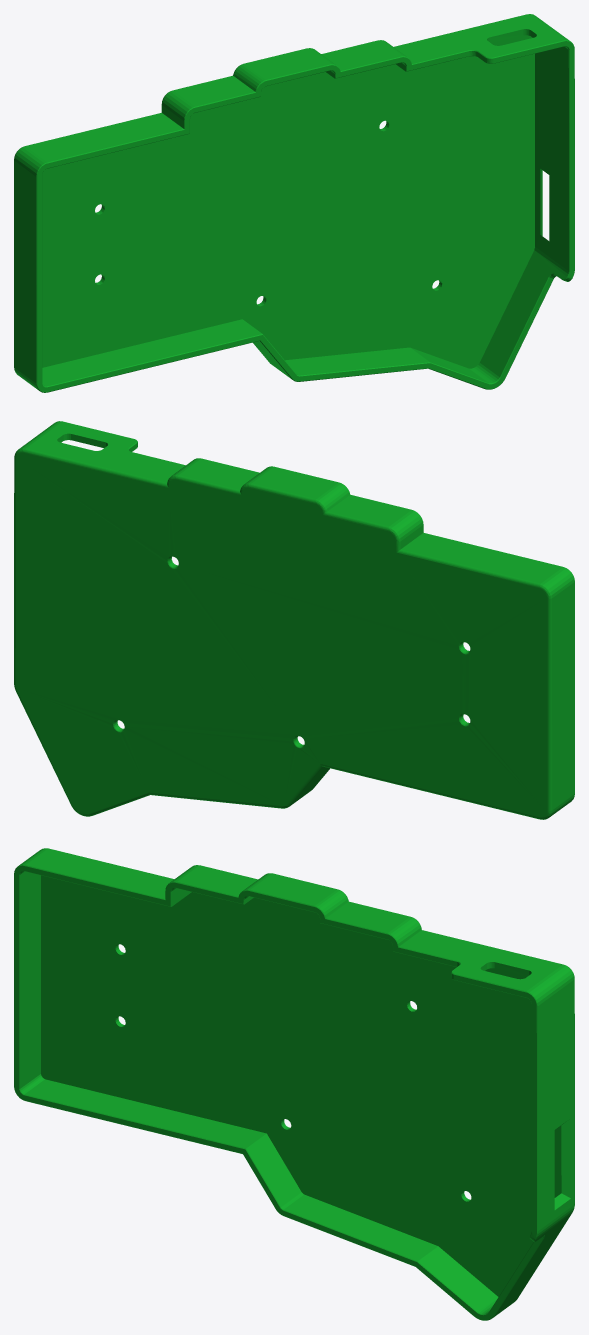
File: case-bottom-3dp.glb
3 renders of one model, top to bottom at view 1: azimuth 30°, elevation 25°; view 2: azimuth 150°, elevation 25°; view 3: azimuth 330°, elevation 25°, orthographic. The views are drawn at different scales.
Bounding box in the file's own units: 0.1329 × 0.0882 × 0.0165.
